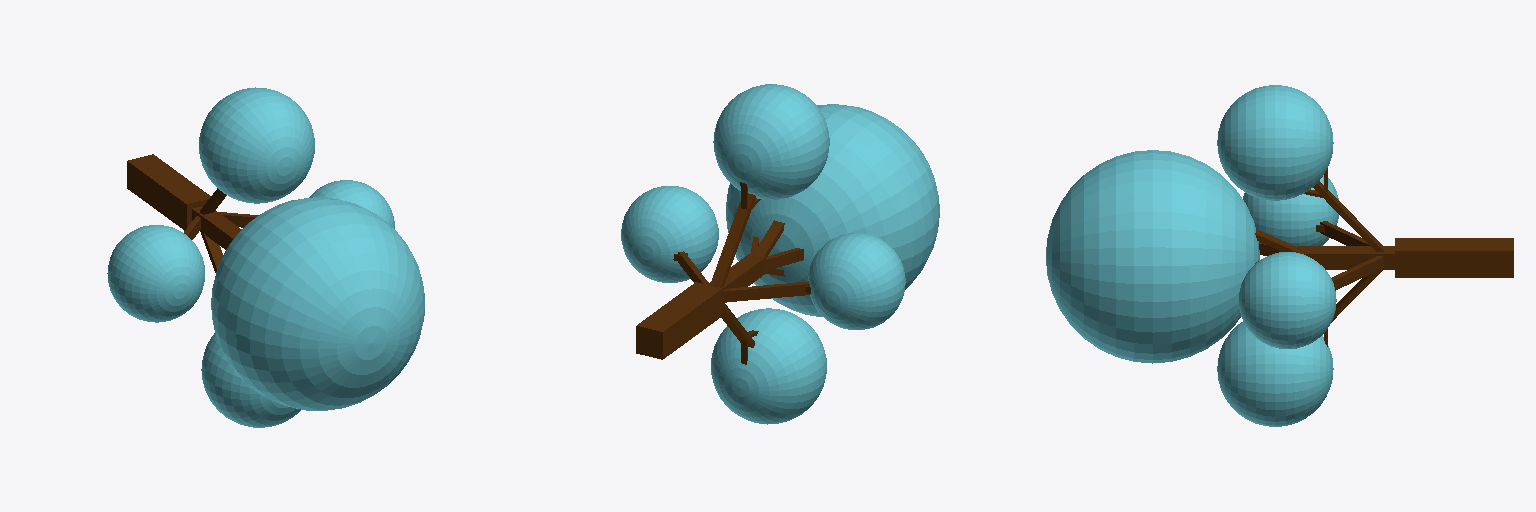
File: tinker.obj
The picture shows the model from 3 angles: view 1: azimuth 30°, elevation 25°; view 2: azimuth 150°, elevation 25°; view 3: azimuth 270°, elevation 25°; orthographic projection.
Visible parts, largest first — view 1: obj_0; view 2: obj_0; view 3: obj_0.
Part boxes in pixels (x1,y1,x2,y2): obj_0: (107,87,424,427); obj_0: (621,84,939,424); obj_0: (1046,85,1513,426).
Bounding box in the file's own units: 103 × 119 × 153.